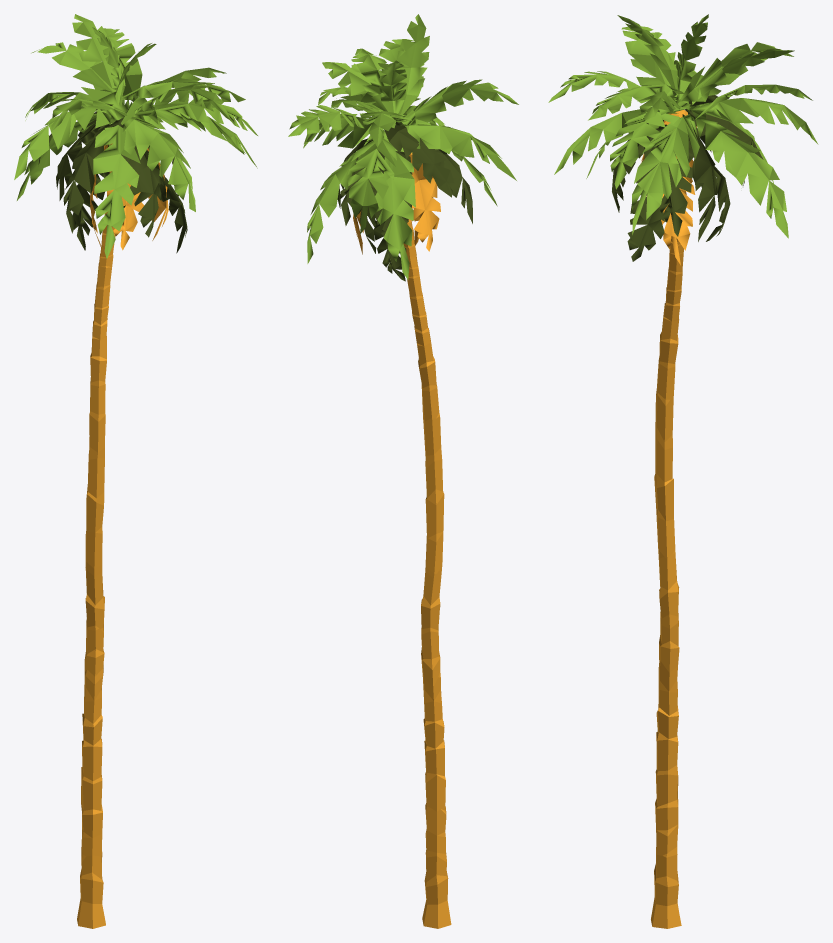
File: SM_Tree_Palm_Maxican_Fan_B.fbx
3 renders of one model, left to right at view 1: azimuth 30°, elevation 25°; view 2: azimuth 150°, elevation 25°; view 3: azimuth 270°, elevation 25°, orthographic. The views are drawn at different scales.
Visible parts, largest first — view 1: SM_Tree_Palm_Maxican_Fan_B; view 2: SM_Tree_Palm_Maxican_Fan_B; view 3: SM_Tree_Palm_Maxican_Fan_B.
Part boxes in pixels (x1=…): SM_Tree_Palm_Maxican_Fan_B: x1=14, y1=14, x2=257, y2=928; SM_Tree_Palm_Maxican_Fan_B: x1=288, y1=14, x2=518, y2=928; SM_Tree_Palm_Maxican_Fan_B: x1=548, y1=14, x2=818, y2=928.
Bounding box in the file's own units: 5.99 × 22.03 × 5.82.
